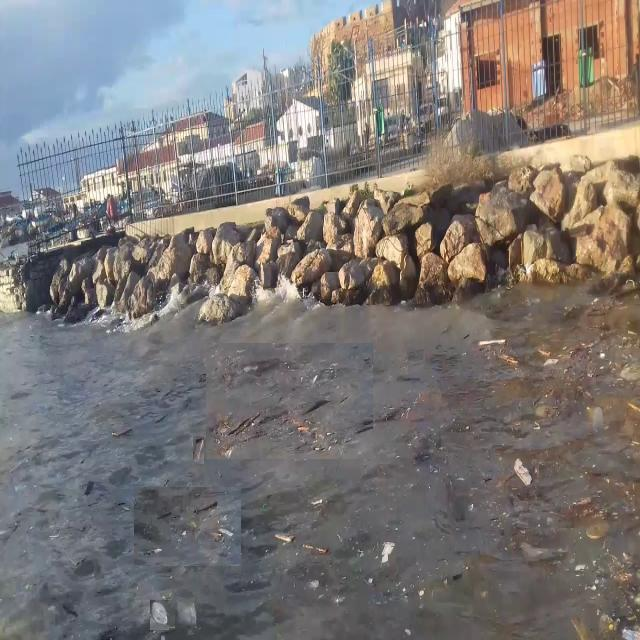Plastic: (175, 596, 198, 628), (150, 600, 169, 630)
Undefined trash: (375, 297, 640, 640), (206, 343, 373, 459), (134, 487, 241, 566)
Wood: (273, 529, 296, 547), (193, 436, 204, 464)
